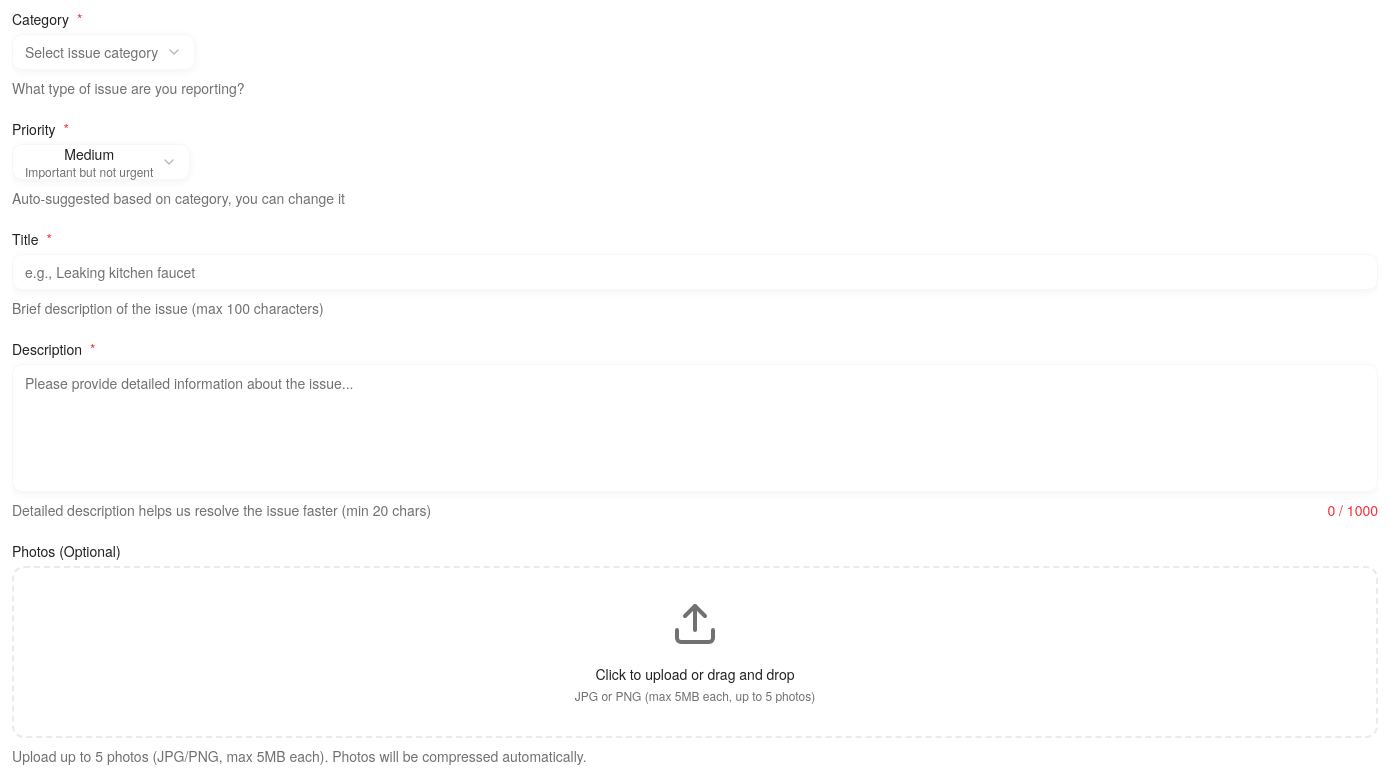
Scenario: MaintenanceRequestForm › updates character counter for description in real-time
Type "Test description" into the text box with test id "textarea-description" at coordinates (695, 428), box [12,364,1378,492]
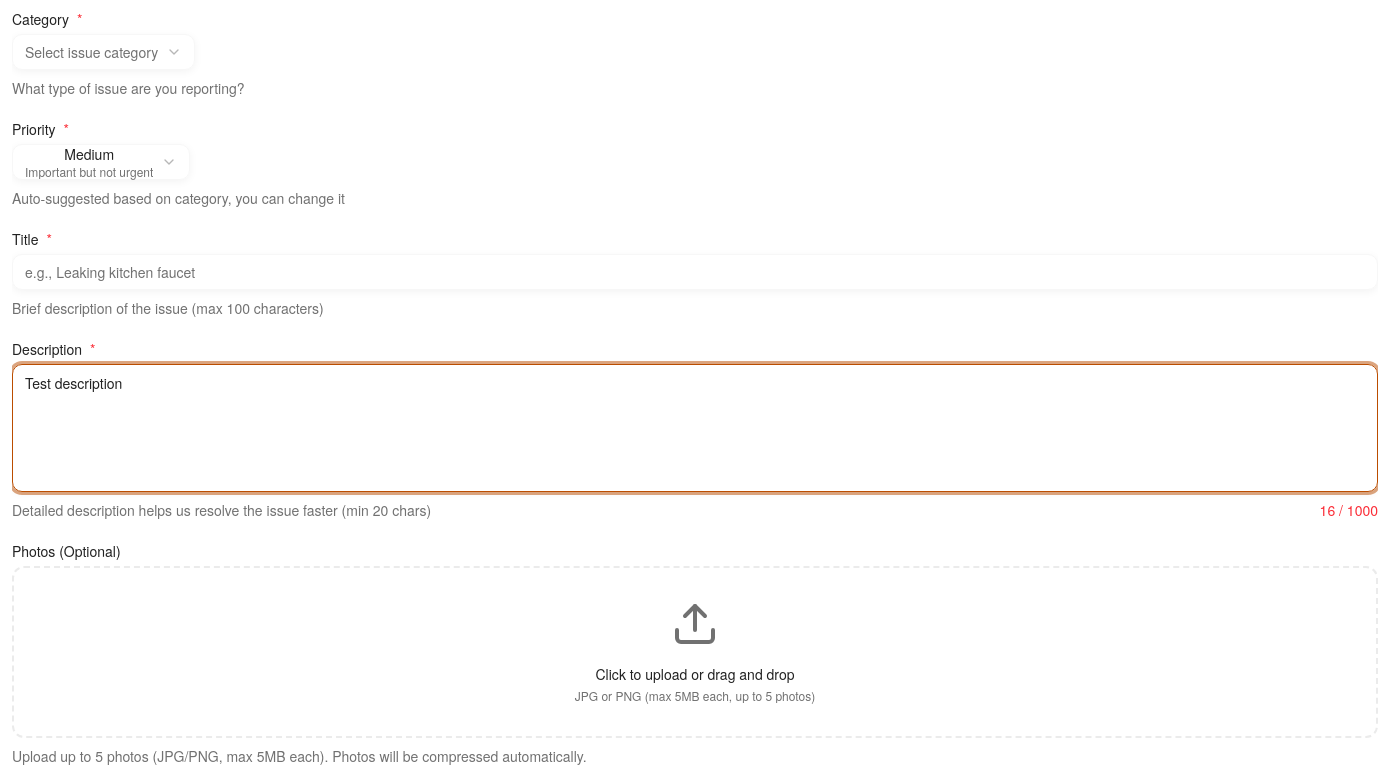
Expected: the text "16 / 1000" is shown, [1320,500,1378,520]
